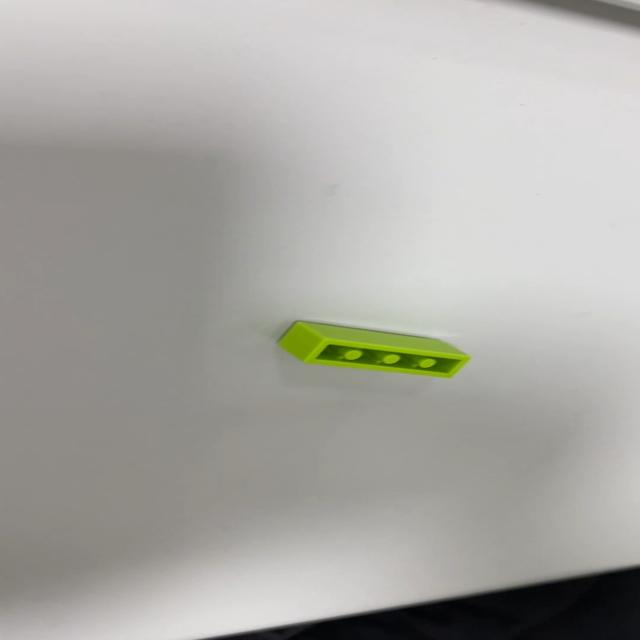C4x1x1: (275, 319, 472, 379)
